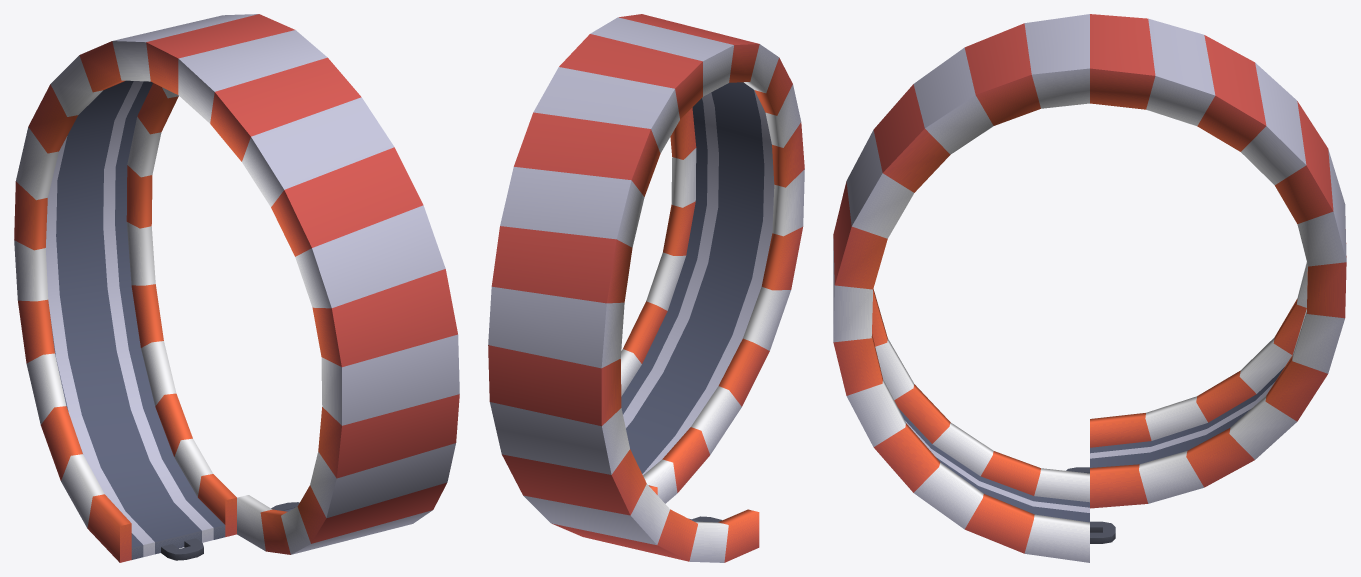
File: track-road-narrow-looping.glb
3 renders of one model, left to right at view 1: azimuth 30°, elevation 25°; view 2: azimuth 150°, elevation 25°; view 3: azimuth 270°, elevation 25°, orthographic. The views are drawn at different scales.
Visible parts, largest first — view 1: track-road-narrow-looping; view 2: track-road-narrow-looping; view 3: track-road-narrow-looping.
Part boxes in pixels (x1,y1,x2,y2): track-road-narrow-looping: (14, 14, 459, 562); track-road-narrow-looping: (488, 14, 804, 562); track-road-narrow-looping: (833, 14, 1346, 562).
Size of the model in its own units: 6 by 12 by 11.94.
Materials: 1 (1 with a texture image).
